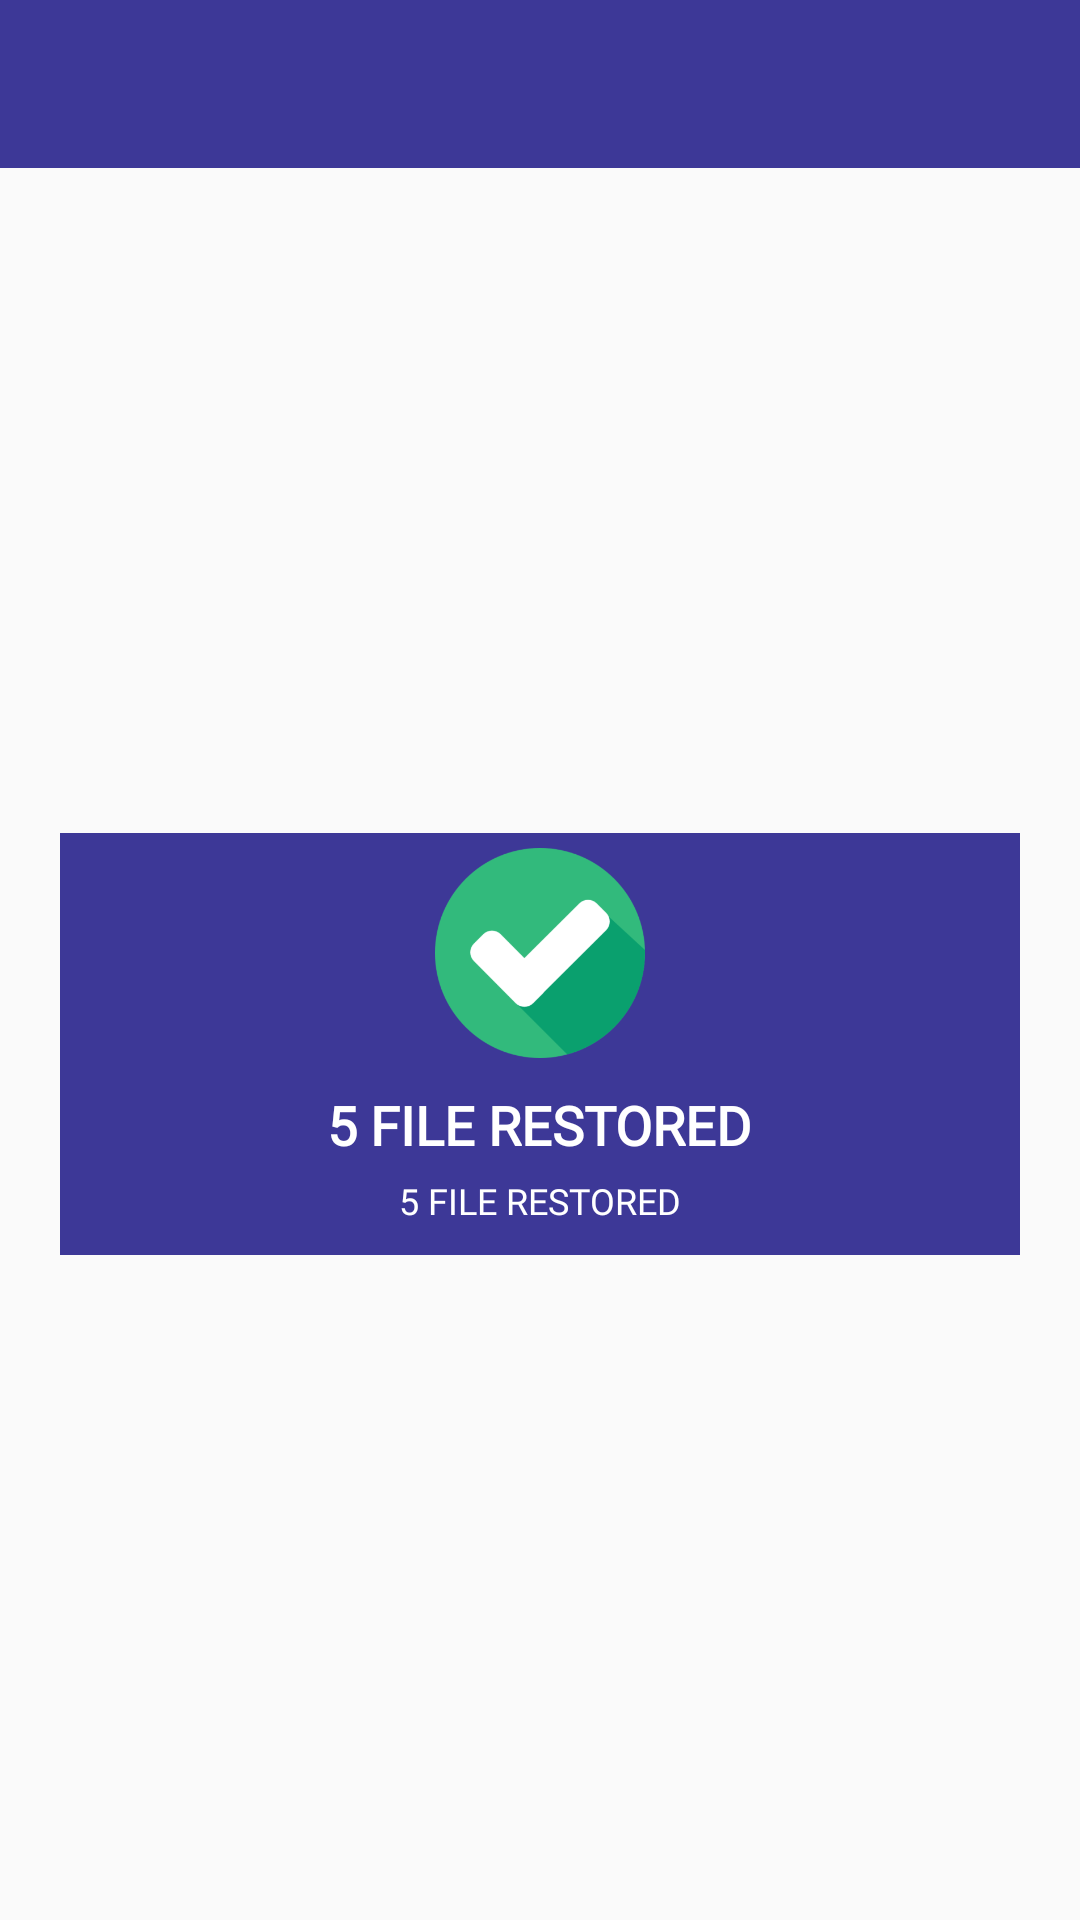

Named icons in this screenshot (1080 x 1920) and their centers, (x,y):
doneicon: (540,953)
